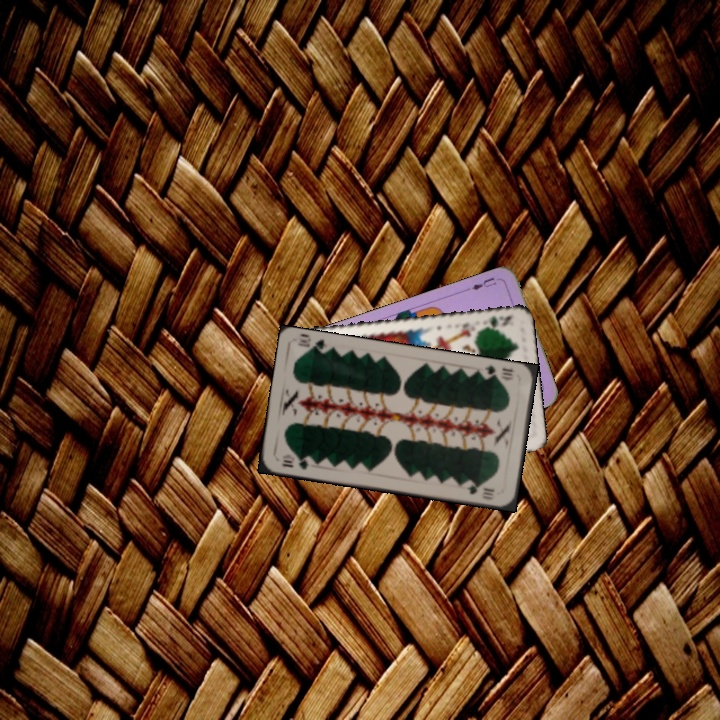EU: (463, 273, 503, 293)
G10: (481, 361, 517, 384), (277, 453, 311, 472)
GK: (477, 312, 514, 331)
